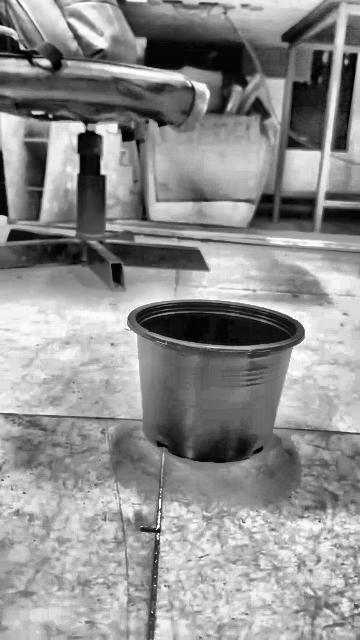pot: (128, 300, 303, 463)
